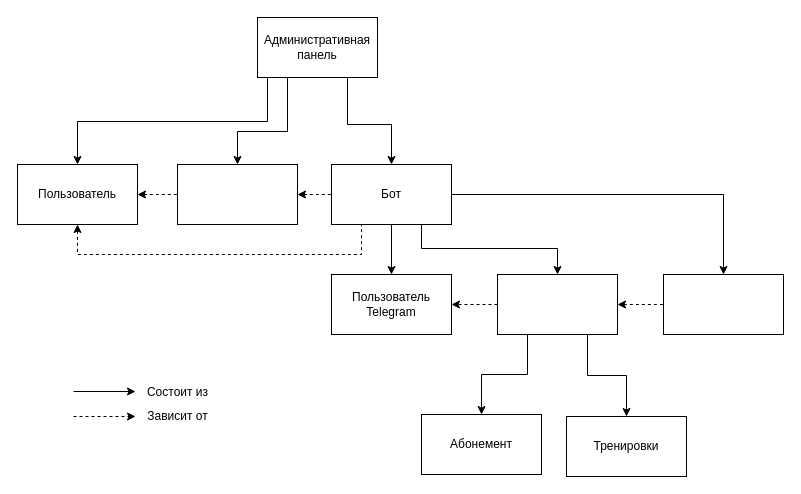
Image size: 801x494. Some labels were removed from this diagram. Here are the shapes that lost their labels. From the top down, the centre of each, then its label:
At [237,194]: "Организация".
At [557,304]: "Спортзал".
At [723,304]: "Конструктор".
